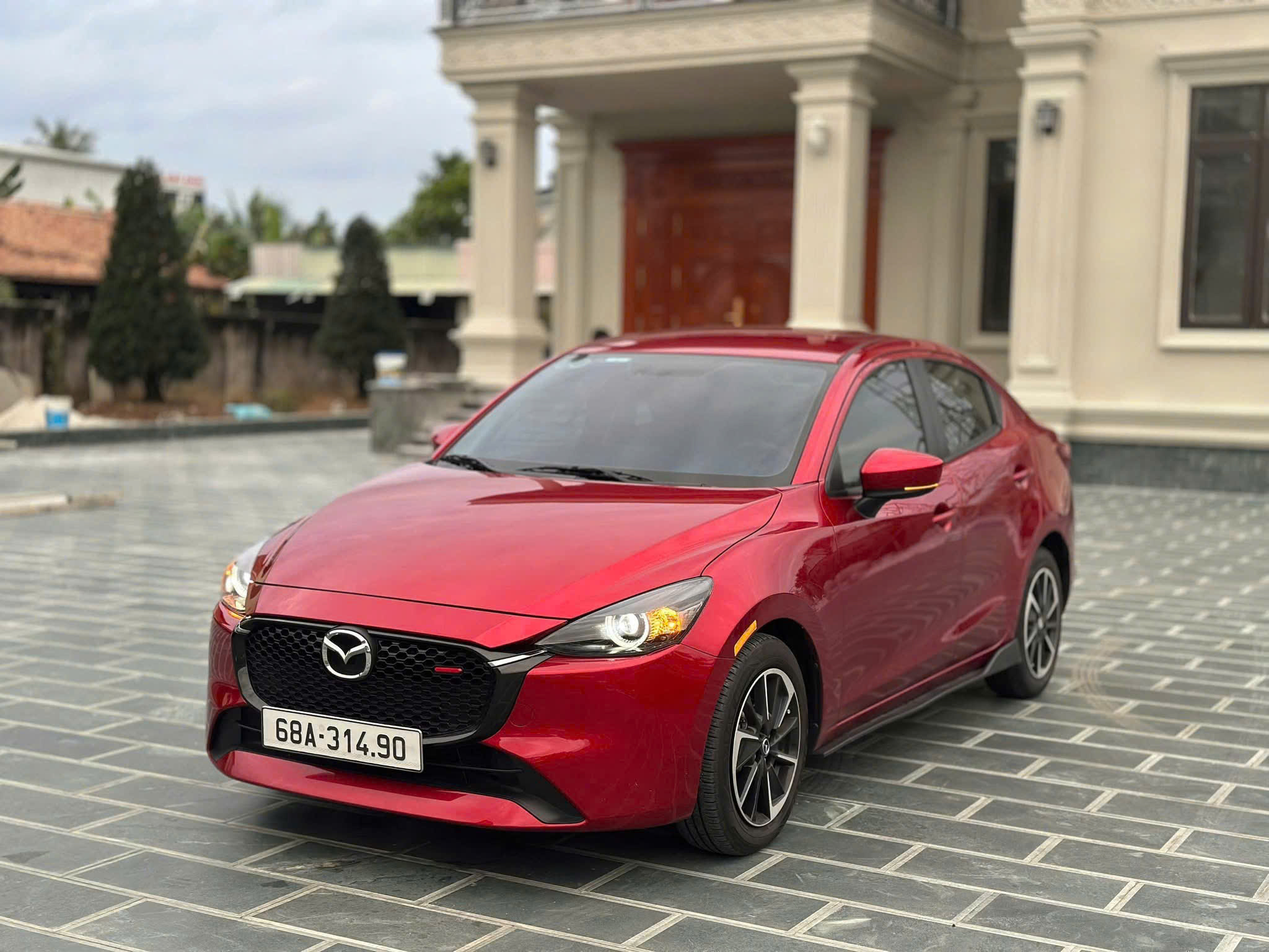Bien-so: (266, 709, 418, 768)
